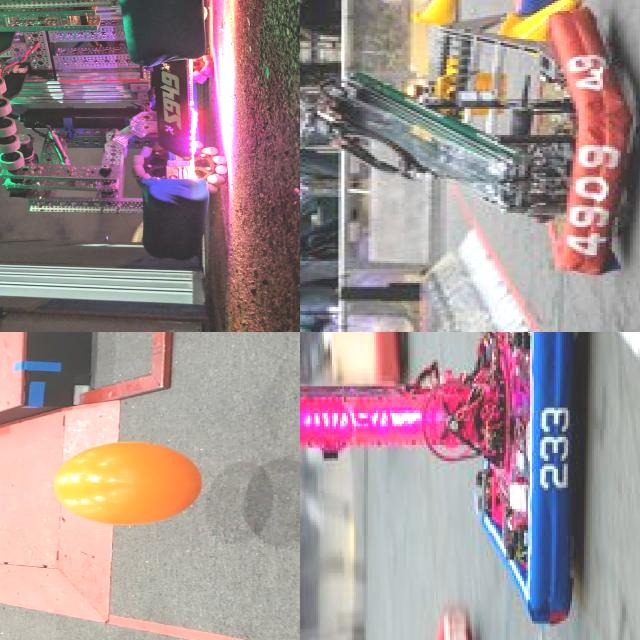FRC-Robots: (300, 0, 640, 287), (300, 332, 599, 640), (0, 0, 266, 277), (300, 332, 398, 429)
